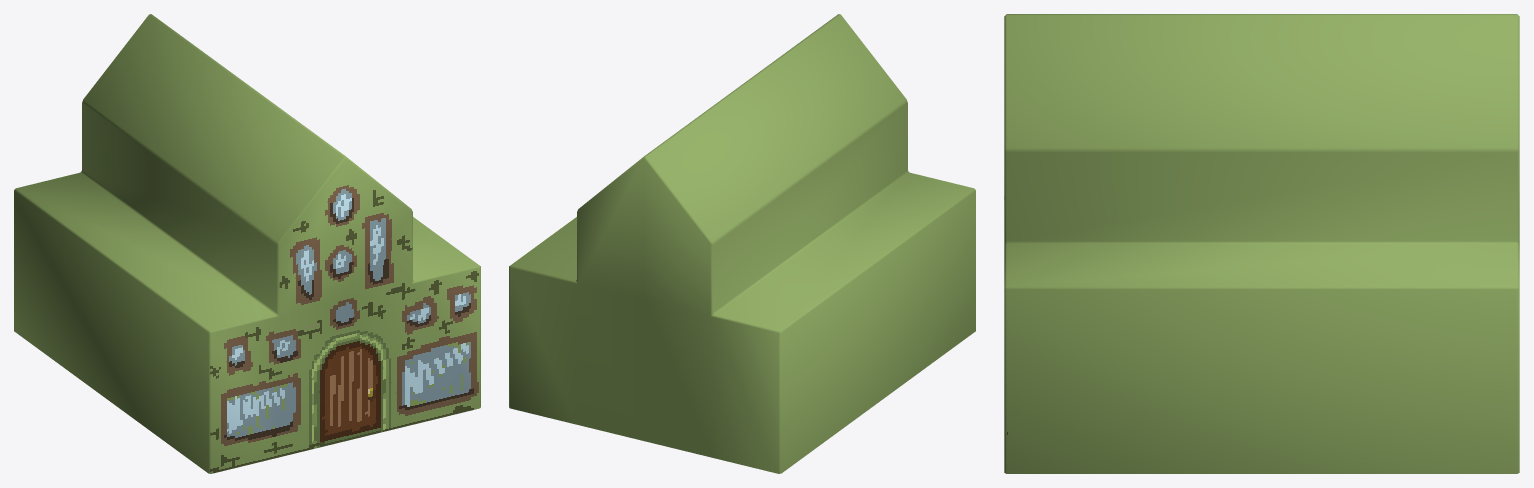
The model's file is Ba Son Objects.glb.
3 renders of one model, left to right at view 1: azimuth 30°, elevation 25°; view 2: azimuth 150°, elevation 25°; view 3: azimuth 270°, elevation 25°, orthographic. The views are drawn at different scales.
Visible parts, largest first — view 1: Library; view 2: Library; view 3: Library.
Boxes of the visible parts, x1=… form: Library: x1=14, y1=14, x2=480, y2=473; Library: x1=509, y1=14, x2=975, y2=473; Library: x1=1004, y1=14, x2=1519, y2=473.
Bounding box in the file's own units: 8 × 7.96 × 10.
1 material, 1 textured.
